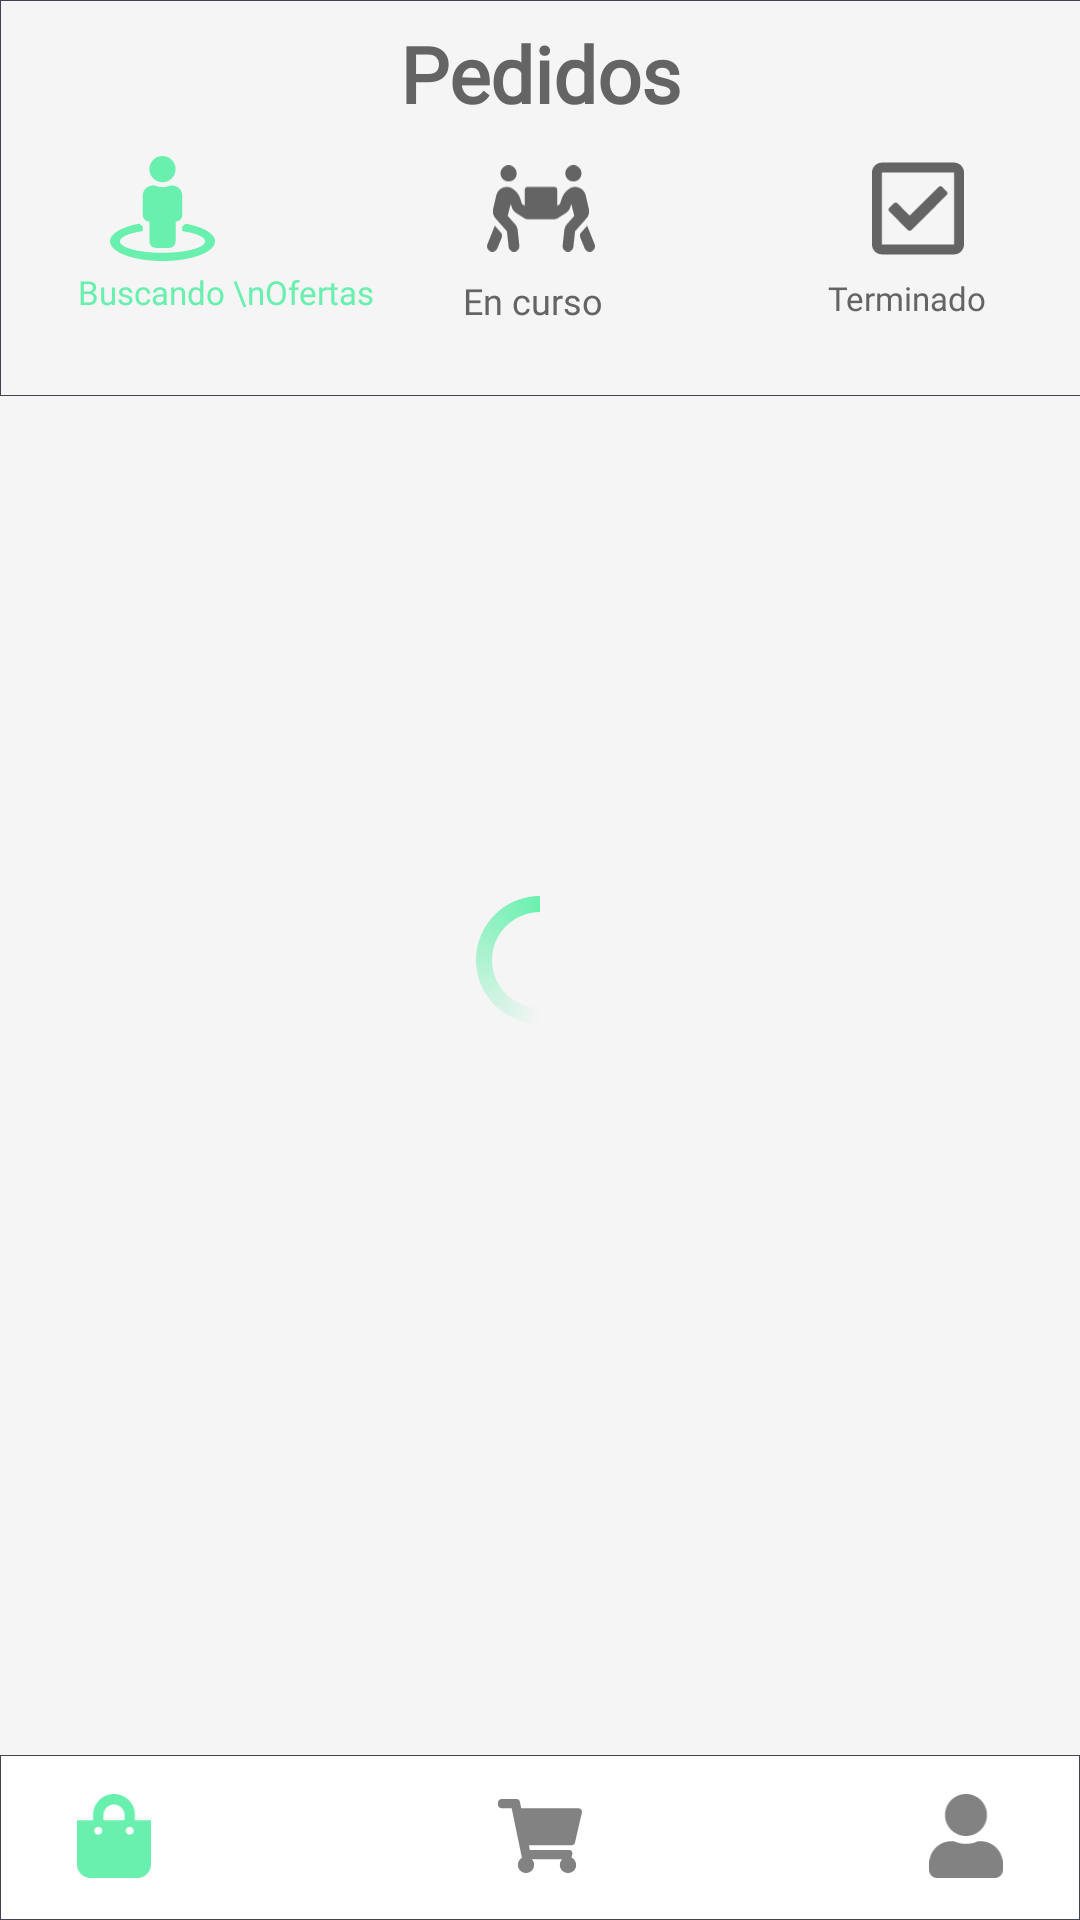

Screen size 1080×1920. Icon name, then its center in pixels as point (x, y):
check square: point (918, 226)
people carry: point (541, 208)
shopping bag: point (114, 1836)
shopping cart: point (540, 1836)
street view: point (162, 208)
user: point (966, 1836)
